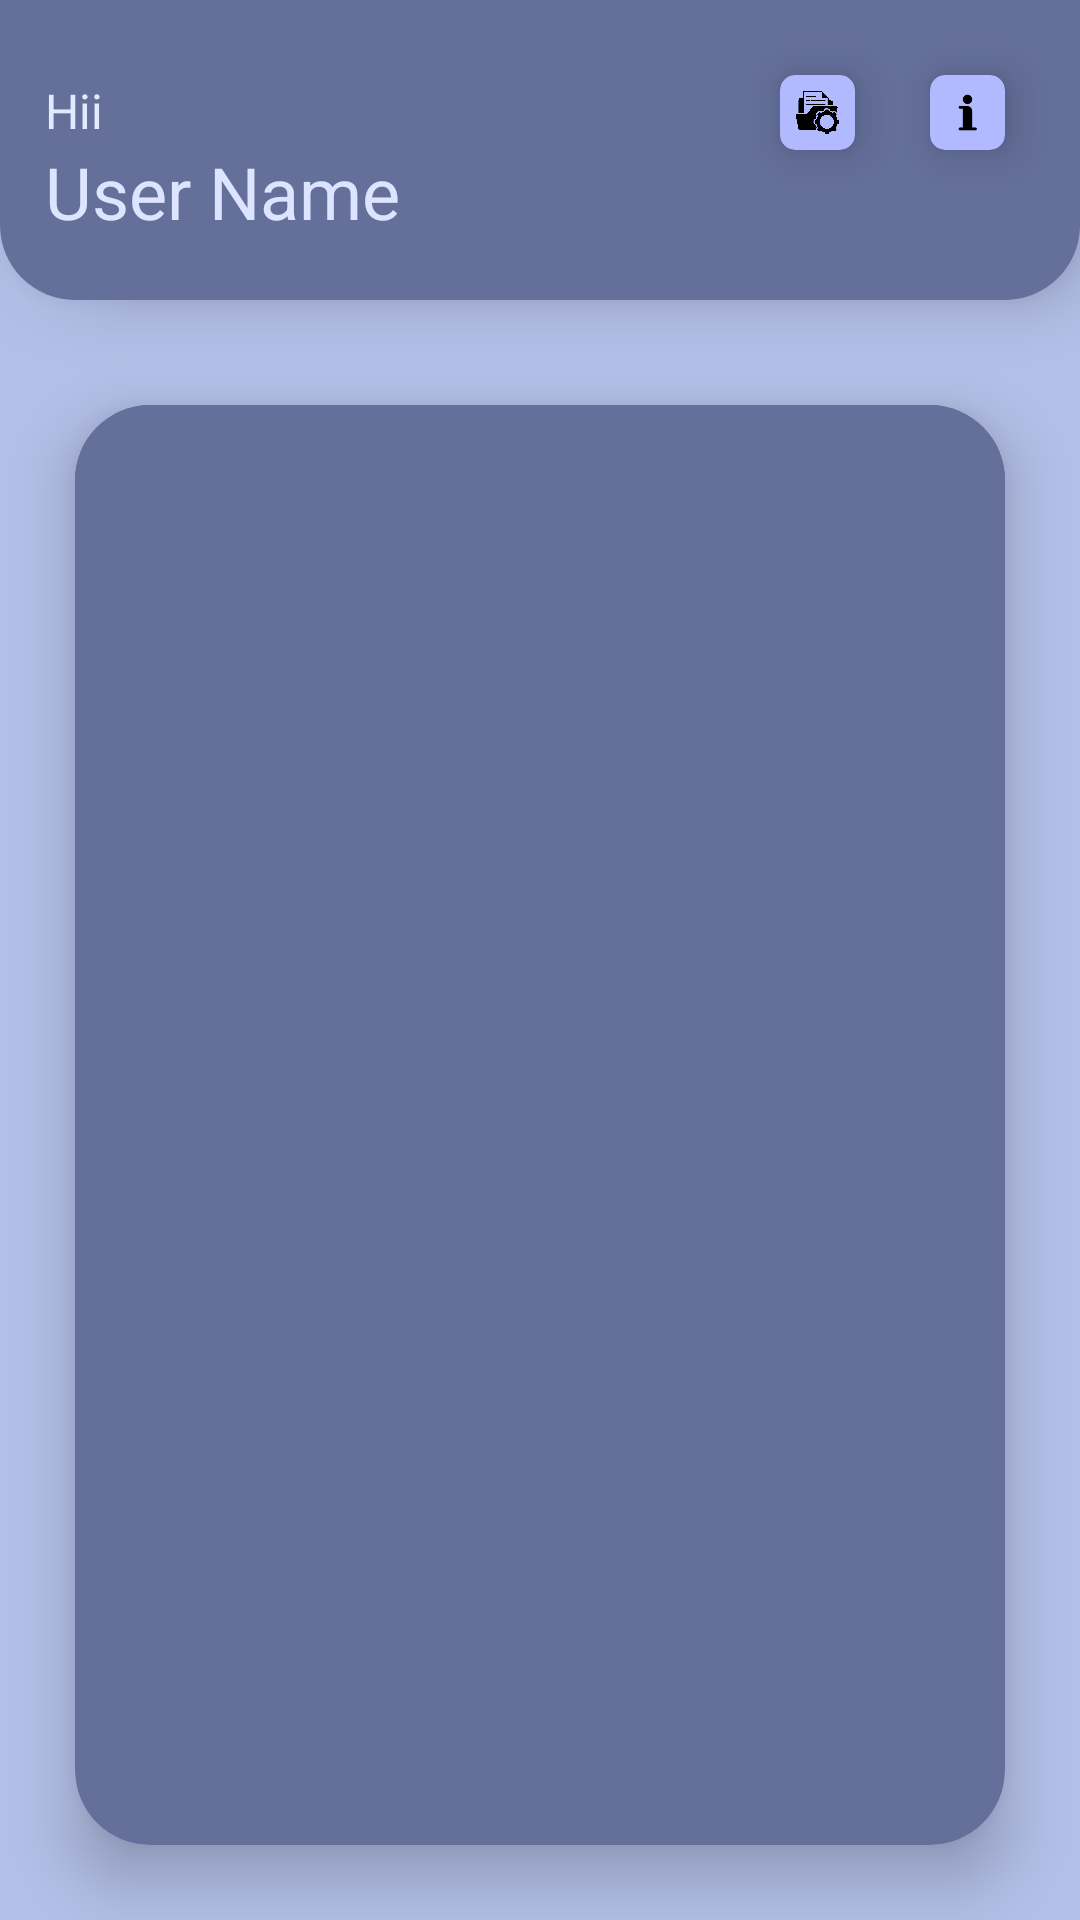

Point at icon controls on the screen. Image size 1080px x 1920px, points as [x,y].
filemanager: [817,112]
